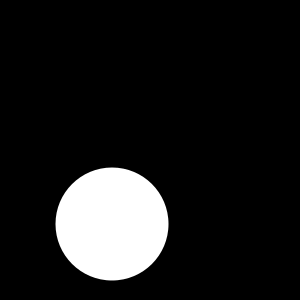rectangle: (56, 168, 168, 280)
